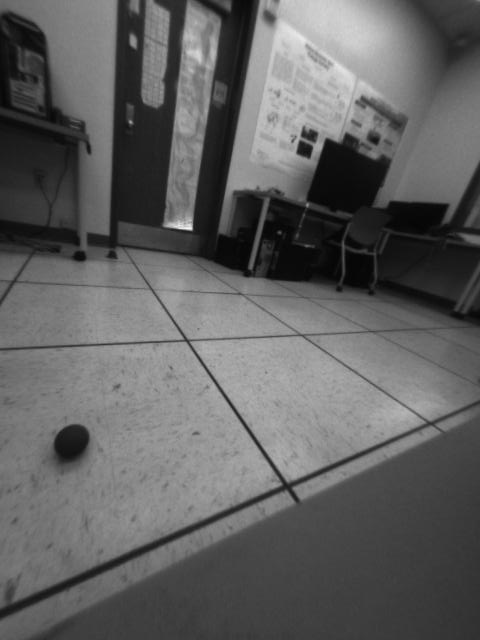dogtoy: (45, 416, 95, 466)
